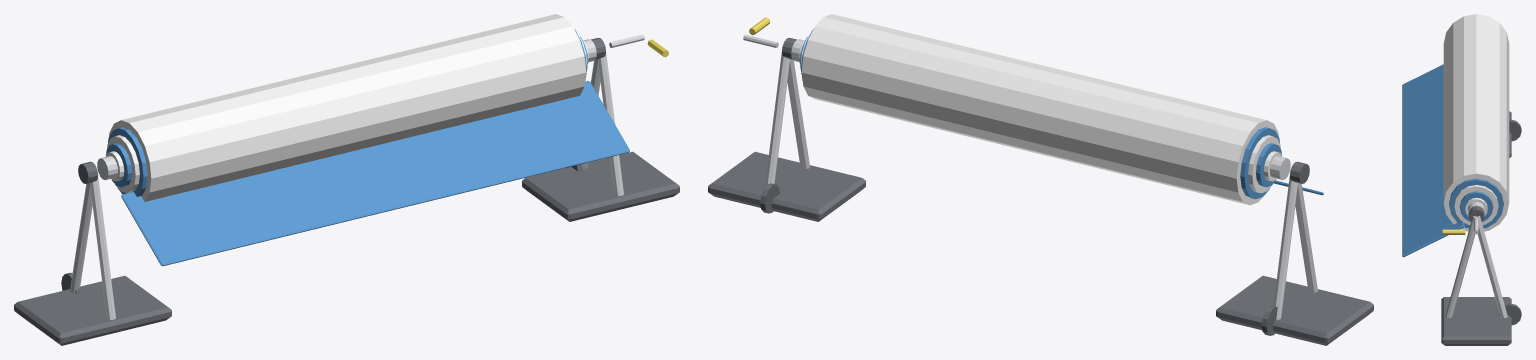
The model's file is public-swimming-baths-and-poolside-pool-cover-reel-6fa320e8__35262.glb.
3 views of the same model, side by side, from view 1: azimuth 30°, elevation 25°; view 2: azimuth 150°, elevation 25°; view 3: azimuth 270°, elevation 25° (orthographic). The views are drawn at different scales.
Visible parts, largest first — view 1: cover-drum/white, cover-drum/blue, pool-cover-reel, cover-drum/metal; view 2: cover-drum/white, pool-cover-reel, cover-drum/blue, cover-drum/metal; view 3: cover-drum/white, cover-drum/blue, pool-cover-reel.
Boxes of the visible parts, x1,y1,x2,y2 form: cover-drum/white: (105,14,588,201); cover-drum/blue: (106,29,629,266); pool-cover-reel: (14,34,679,345); cover-drum/metal: (97,39,596,180); cover-drum/white: (799,14,1282,205); pool-cover-reel: (708,17,1373,345); cover-drum/blue: (799,29,1323,199); cover-drum/metal: (791,39,1290,180); cover-drum/white: (1443,14,1509,231); cover-drum/blue: (1402,64,1503,257); pool-cover-reel: (1441,111,1521,345).
Bounding box in the file's own units: 3.82 × 1.09 × 0.845.
